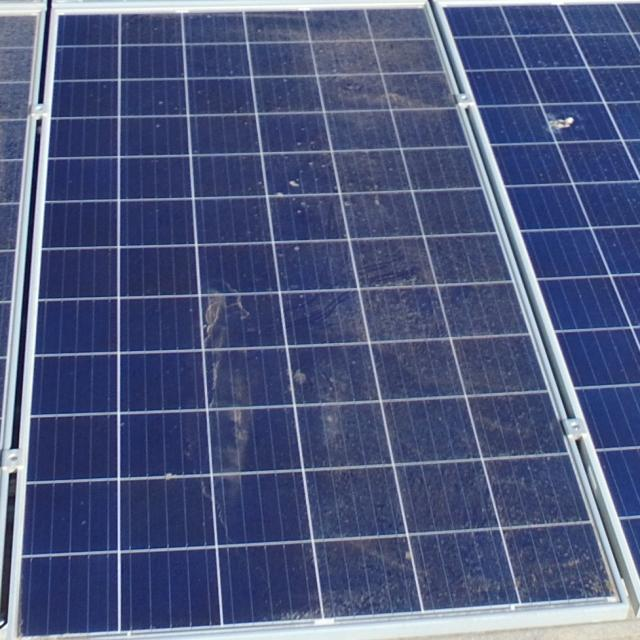Dust: (339, 318, 614, 636), (261, 0, 464, 264), (162, 261, 275, 489)
bird-droppings: (542, 111, 578, 140), (283, 360, 311, 393), (284, 170, 307, 194), (292, 195, 314, 217), (288, 234, 308, 257), (372, 191, 386, 209)
